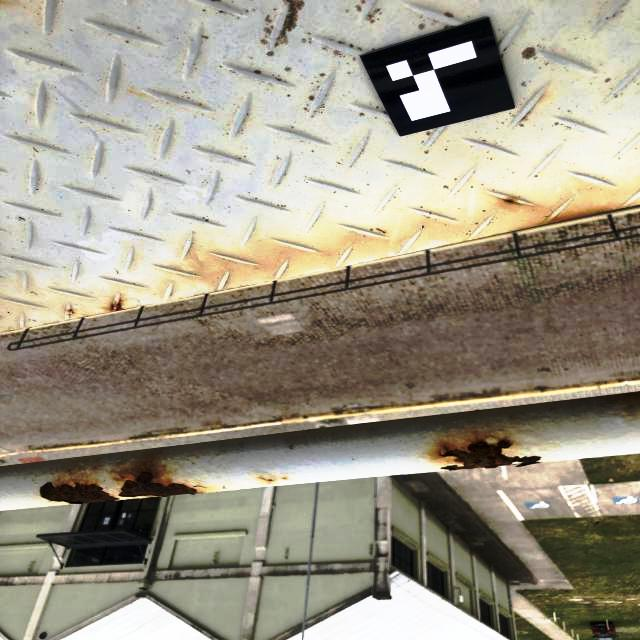Corrosion: (439, 440, 541, 470), (118, 465, 202, 497), (40, 482, 120, 504), (537, 207, 615, 226), (110, 300, 130, 312), (502, 197, 518, 204)
